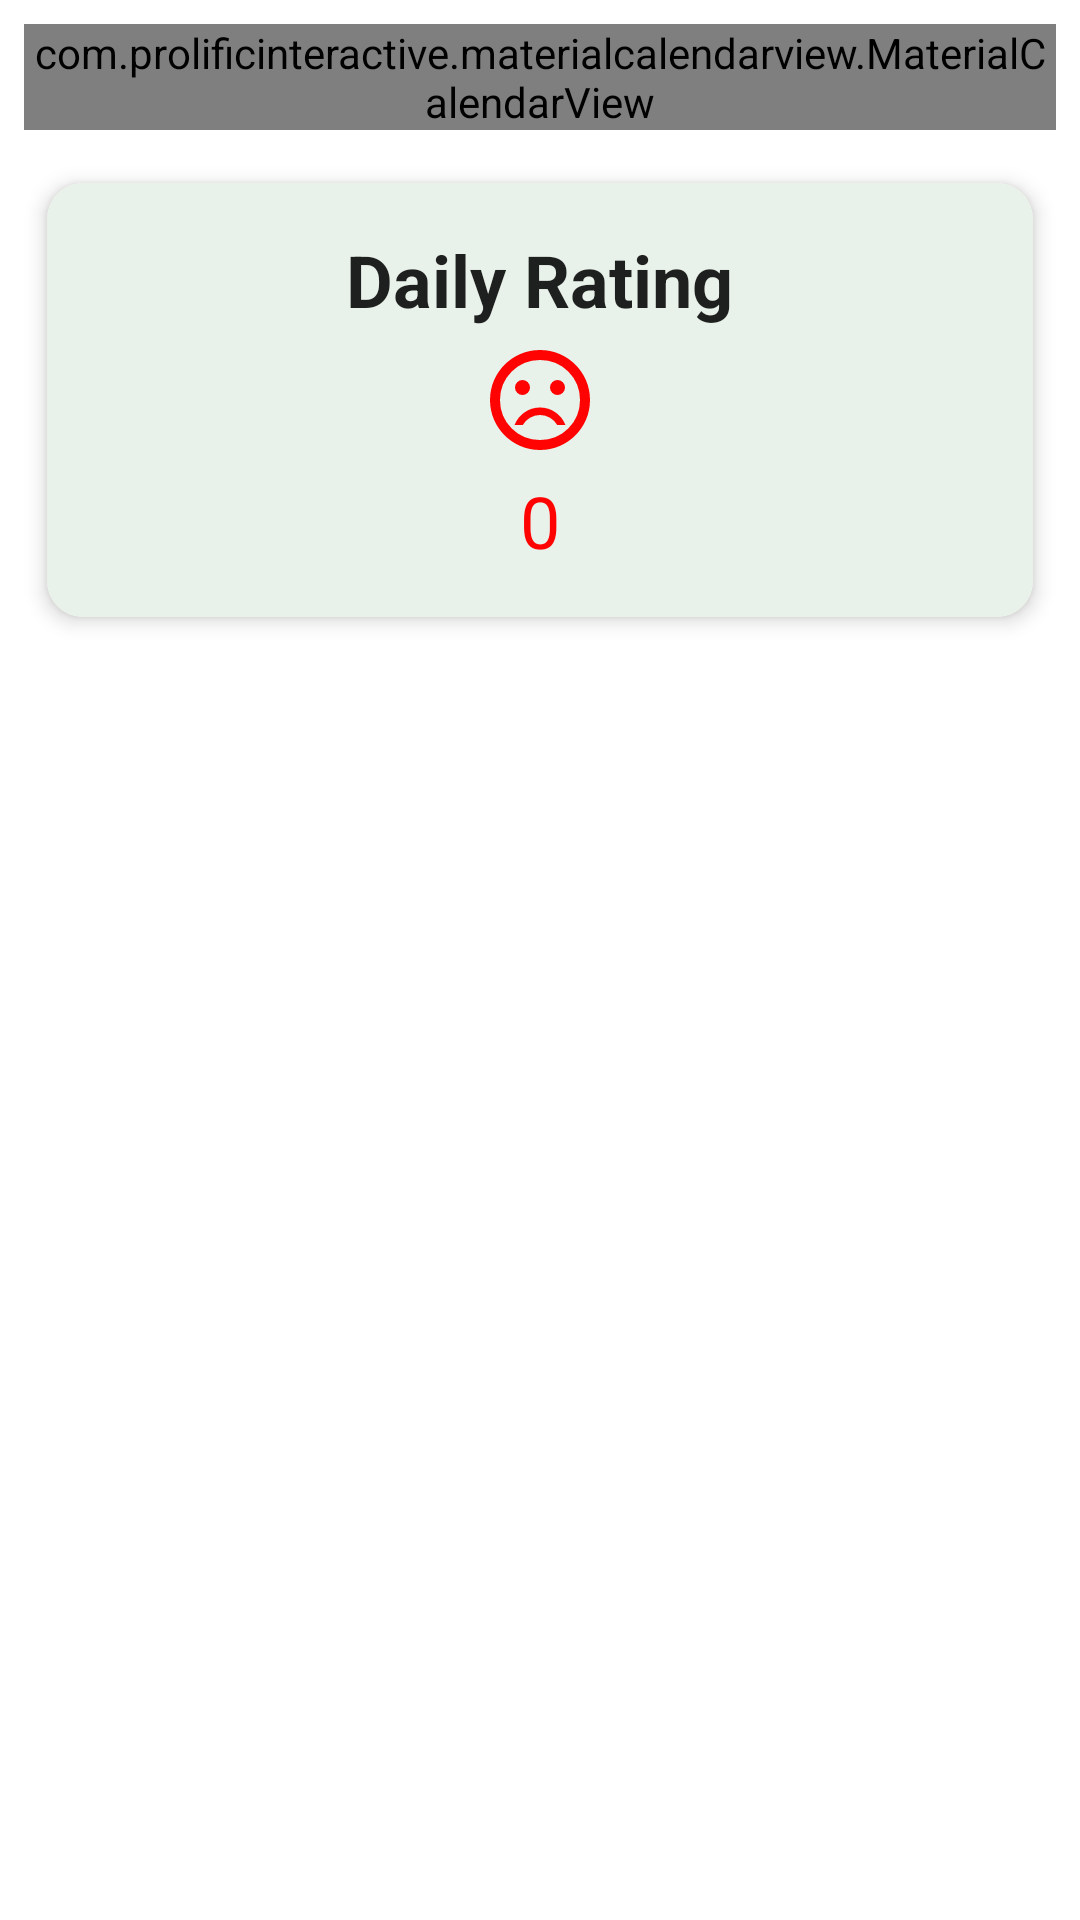

Icon click points for this 1080w x 1920h phone screenshot, format (x,y):
Rating face: (540,400)
